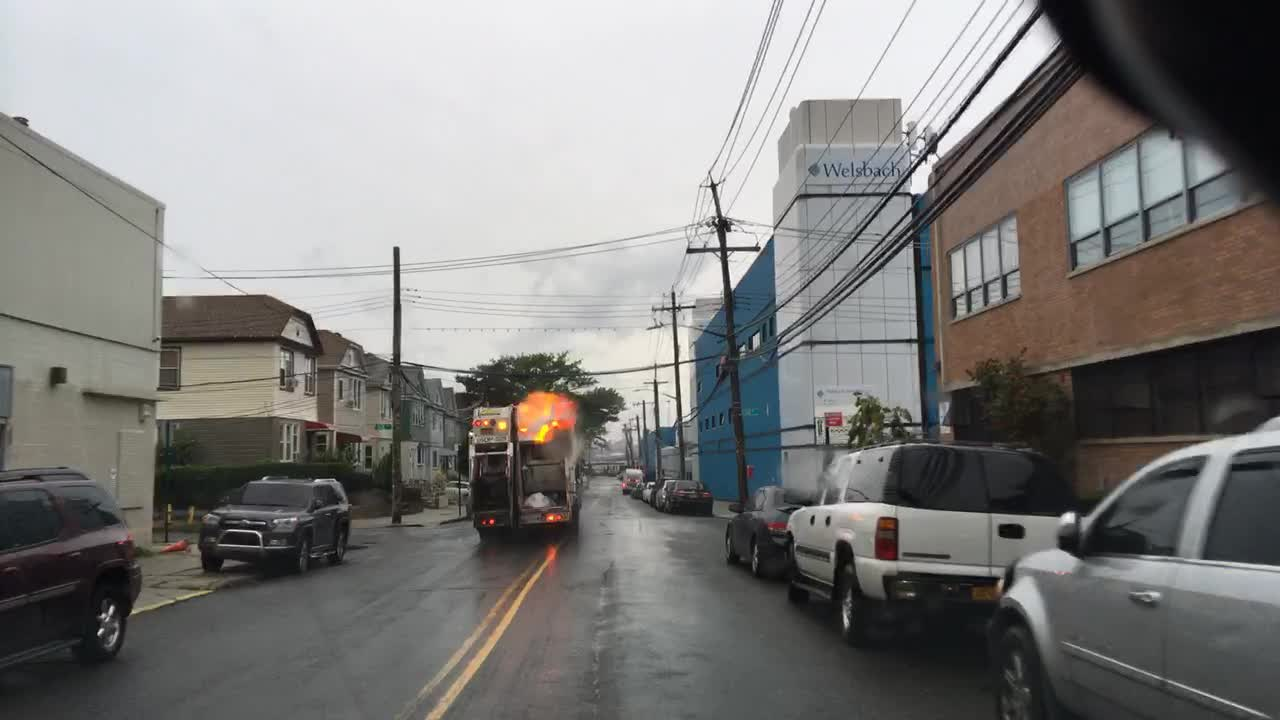car: (985, 426, 1278, 717), (783, 441, 1079, 647), (2, 466, 142, 667), (199, 472, 351, 575), (722, 480, 809, 575), (660, 480, 714, 515), (442, 481, 469, 505), (621, 467, 641, 491), (642, 481, 661, 504), (631, 484, 643, 497)
traffic sign: (824, 410, 845, 427), (375, 420, 391, 431), (742, 408, 763, 416)
truck: (466, 401, 580, 542)
